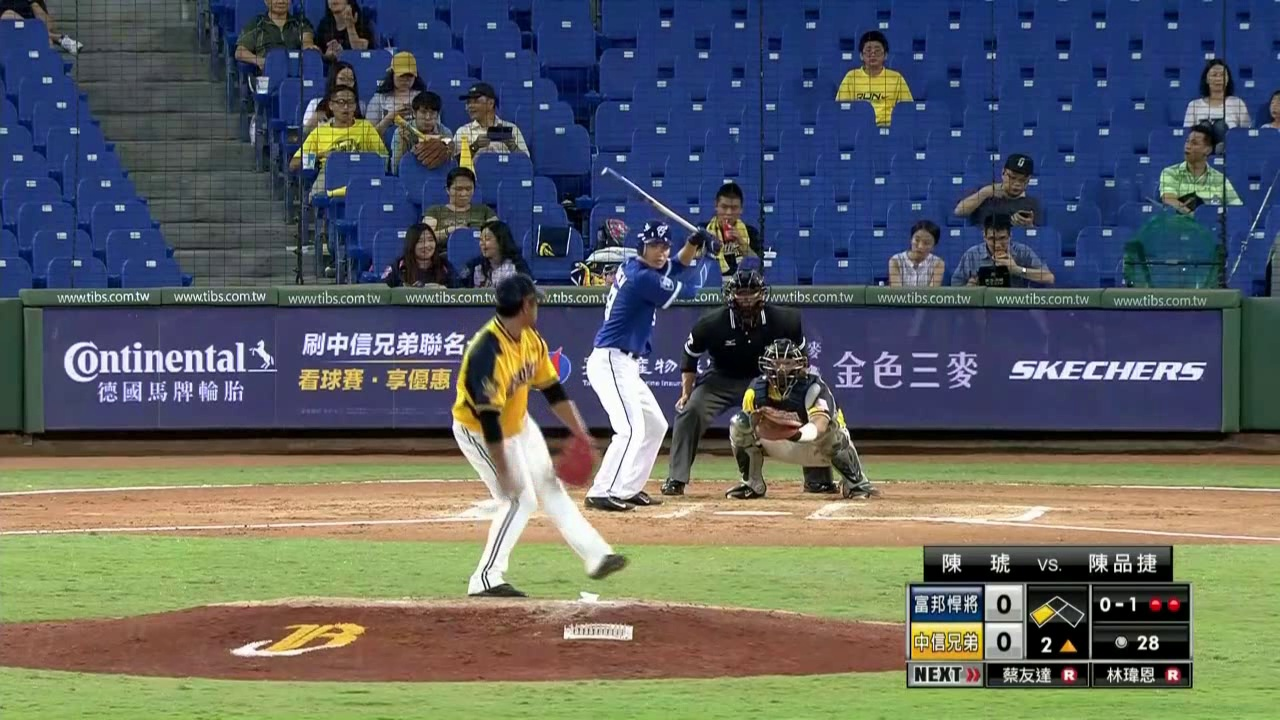base: (1028, 591, 1087, 632)
bat: (598, 164, 703, 236)
out: (1146, 592, 1185, 616)
score1: (985, 587, 1022, 619)
score2: (986, 625, 1024, 656)
session: (1028, 635, 1087, 659)
strikeball: (1093, 590, 1142, 616)
total: (1093, 629, 1185, 656)
